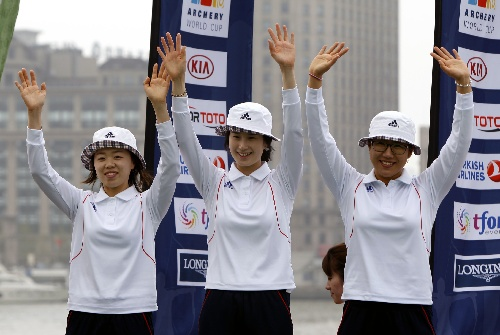handsup: (305, 32, 477, 334), (154, 23, 311, 333), (11, 54, 179, 335)
